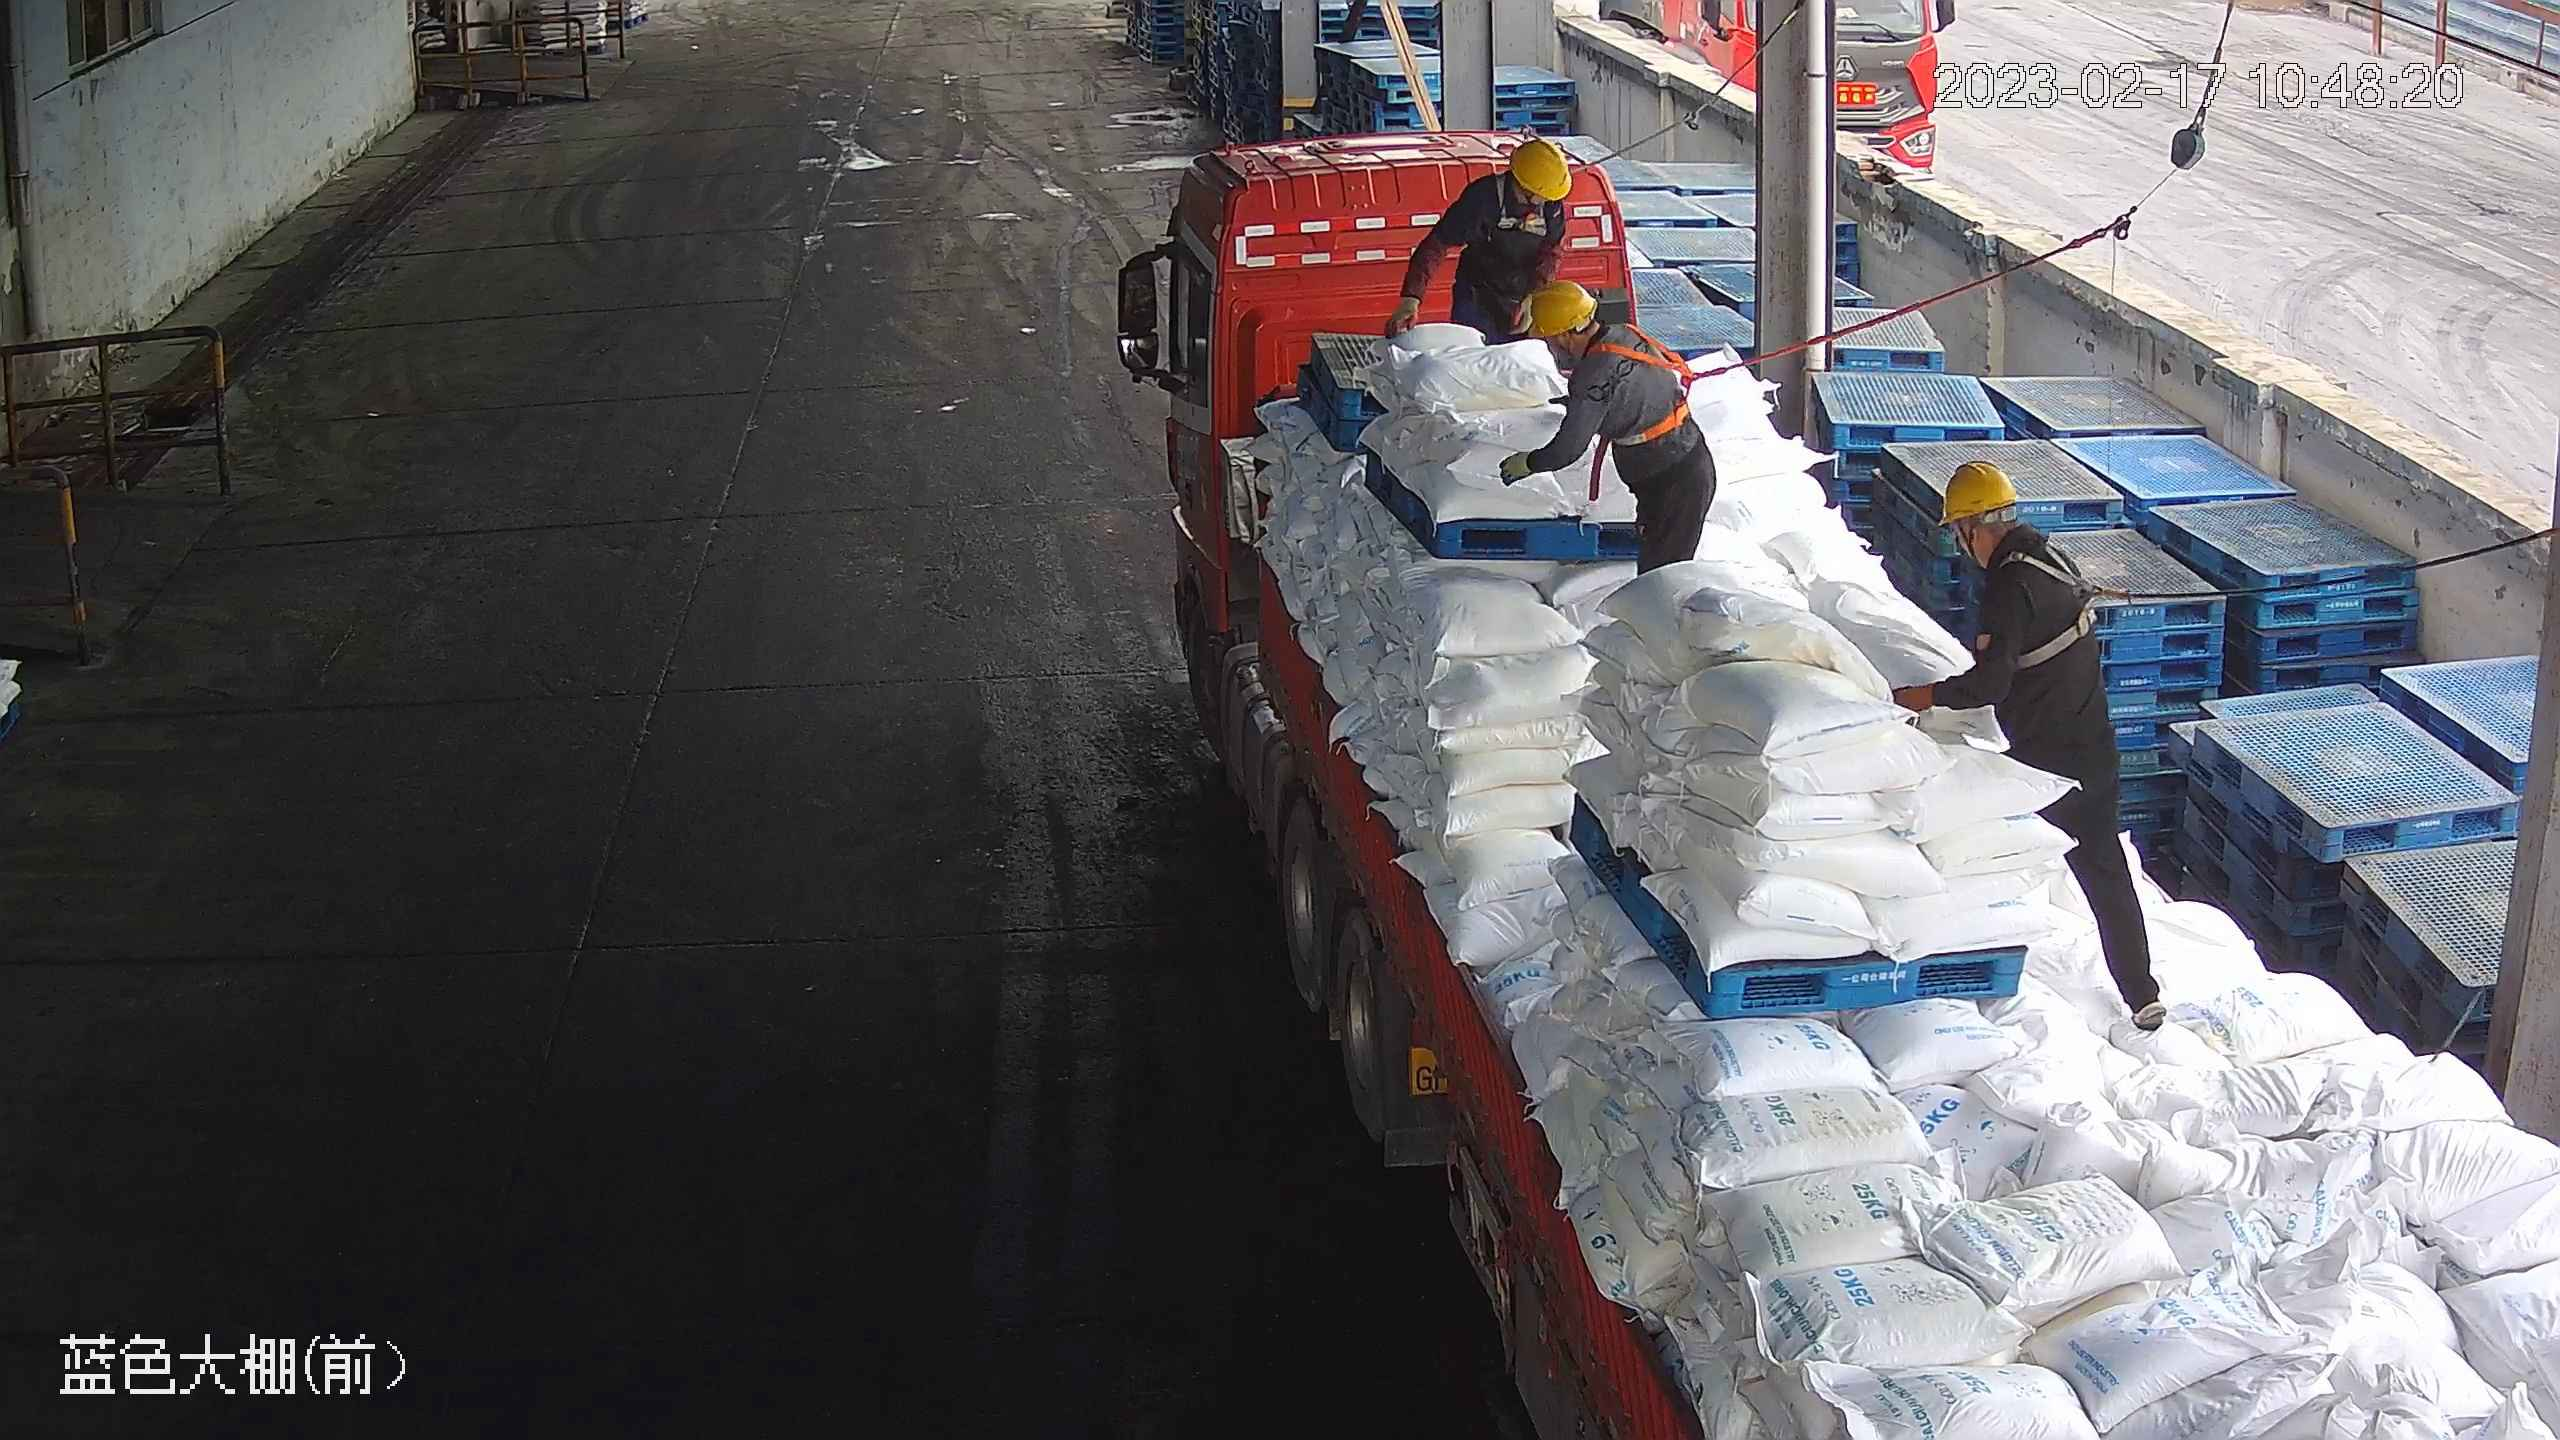belt: (1584, 322, 1710, 449), (1994, 537, 2114, 669), (1492, 172, 1563, 231)
head: (1936, 457, 2092, 607), (1524, 278, 1671, 387), (1461, 136, 1573, 223)
helmet: (1934, 459, 2022, 527), (1524, 277, 1597, 339), (1508, 136, 1574, 201)
people: (1884, 456, 2175, 1034), (1496, 278, 1720, 577), (1387, 137, 1576, 344)
truck: (1122, 131, 2560, 1440)
